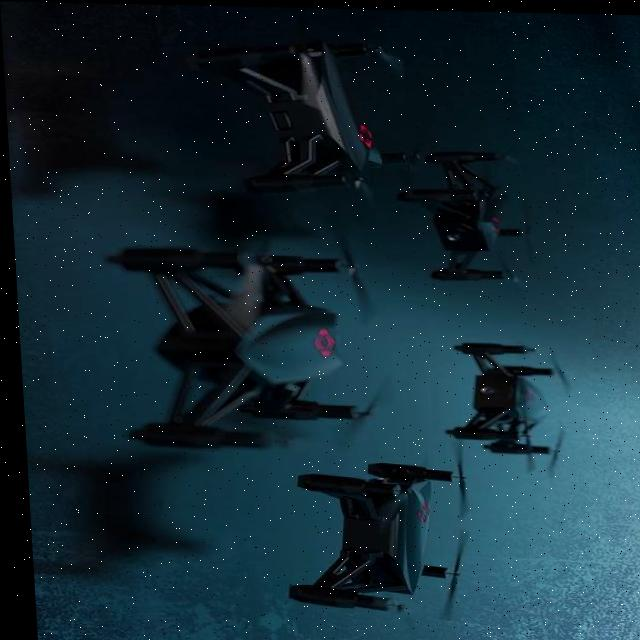drone: (112, 224, 384, 464), (271, 437, 483, 635), (234, 31, 413, 207), (403, 151, 528, 312), (440, 323, 576, 466)
